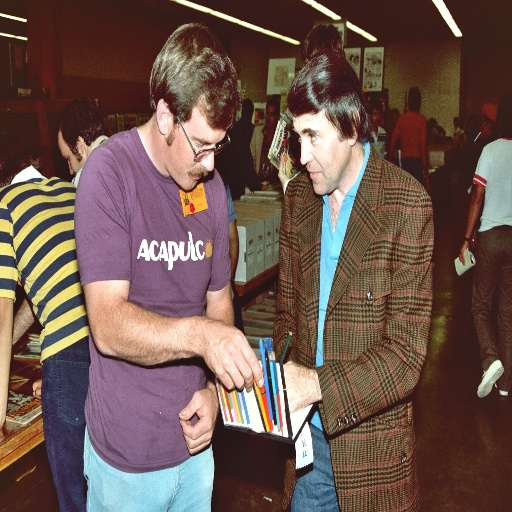hand: (200, 317, 262, 393), (172, 386, 214, 459), (282, 358, 314, 416), (459, 242, 468, 267), (31, 377, 41, 398), (470, 231, 477, 248)
